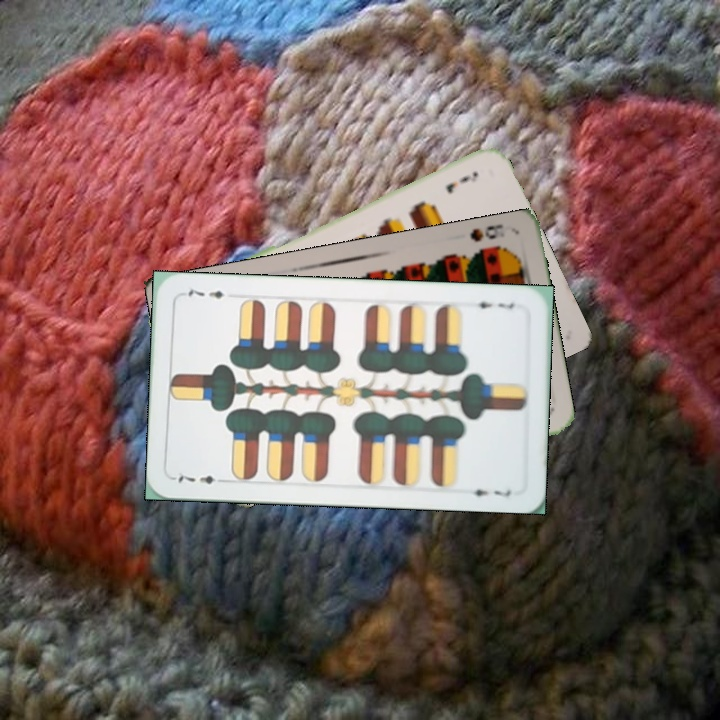E7: (442, 167, 481, 196), (171, 471, 230, 487), (467, 297, 517, 312)
S8: (466, 220, 506, 244)
